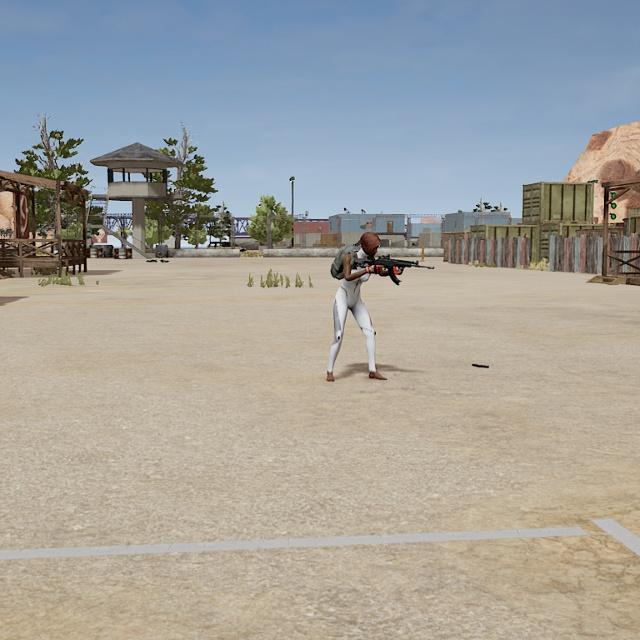head: (359, 231, 382, 259)
people: (326, 230, 388, 383)
